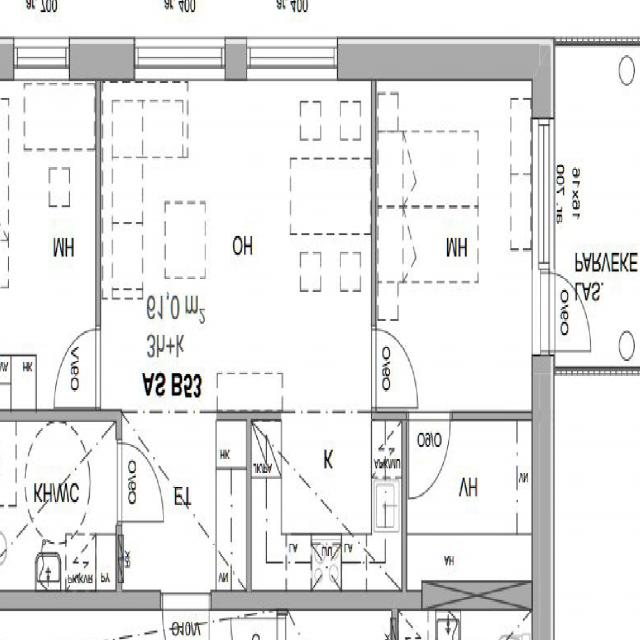door: (533, 274, 595, 351), (116, 442, 163, 521), (55, 329, 101, 407), (409, 412, 450, 498), (372, 329, 416, 407), (163, 589, 209, 640)
